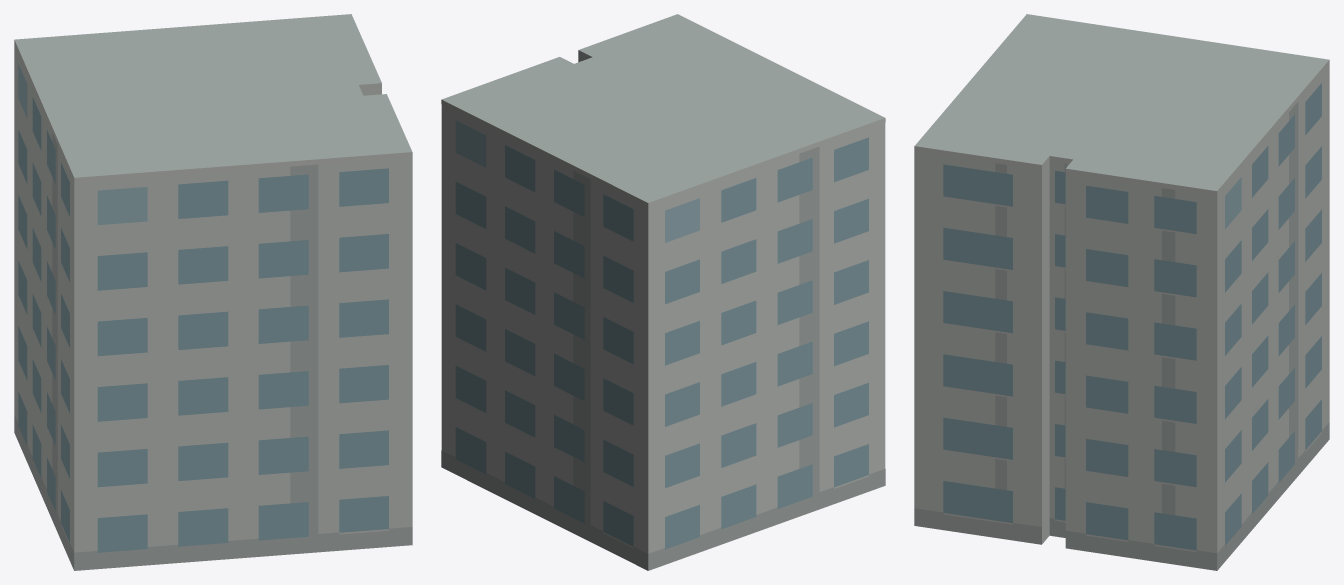
Rendered from survey-upis-32947201.glb.
3 views of the same model, side by side, from view 1: azimuth 30°, elevation 25°; view 2: azimuth 150°, elevation 25°; view 3: azimuth 270°, elevation 25° (orthographic). The views are drawn at different scales.
Parts seen in each view (by area): view 1: survey-upis-32947201.tmp; view 2: survey-upis-32947201.tmp; view 3: survey-upis-32947201.tmp.
Boxes of the visible parts, box(x1,y1,x2,y2) form: survey-upis-32947201.tmp: box(14, 14, 412, 570); survey-upis-32947201.tmp: box(441, 14, 885, 570); survey-upis-32947201.tmp: box(914, 14, 1329, 570).
Size of the model in its own units: 18.32 by 18.3 by 18.14.
